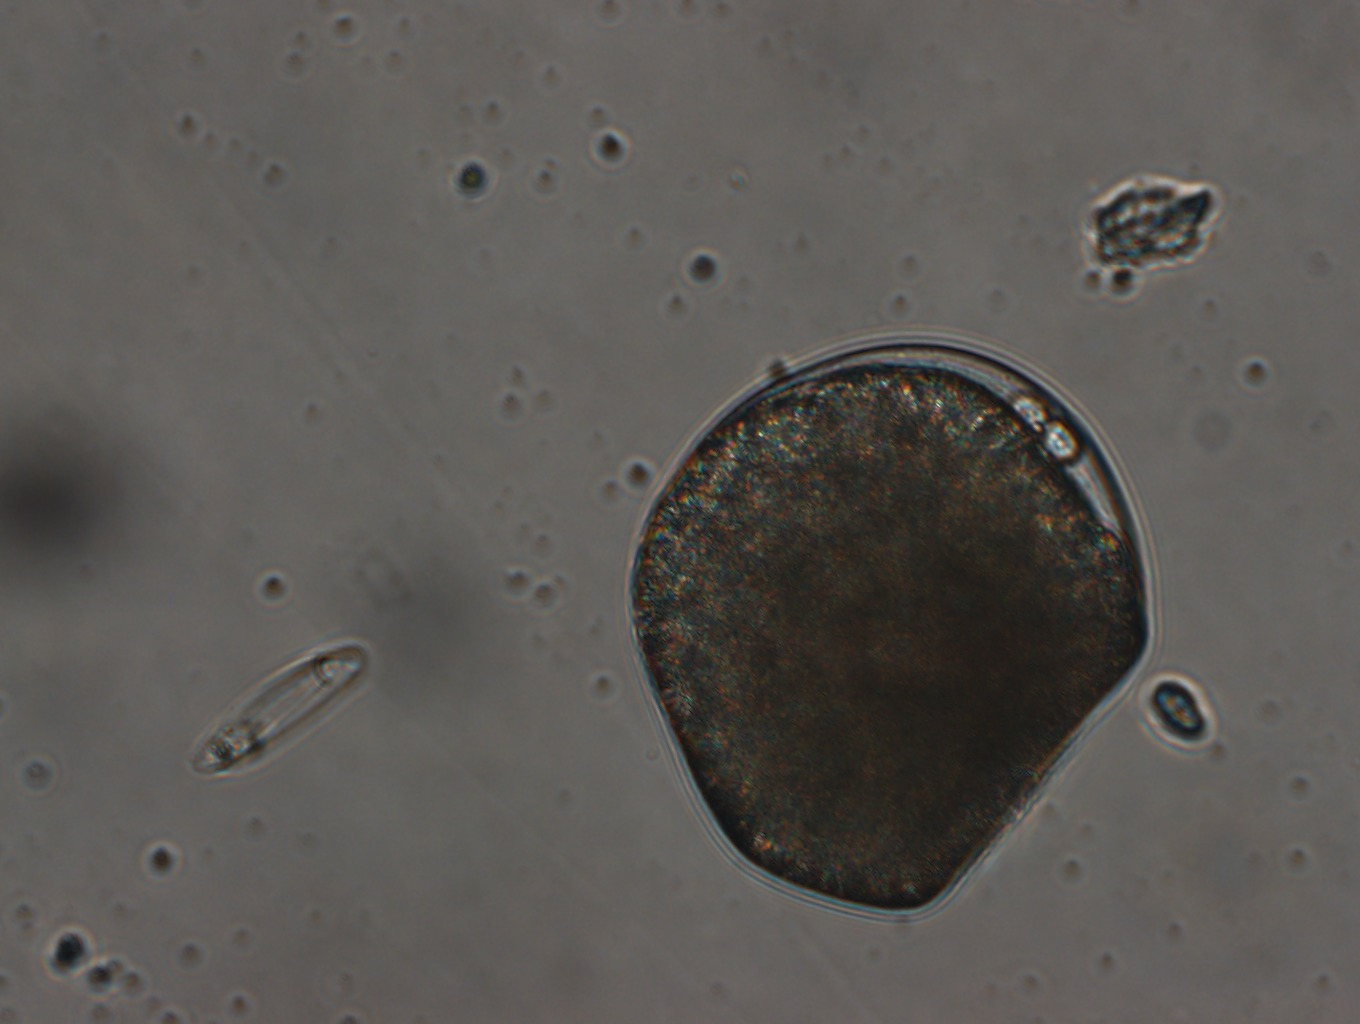coscinodiscus: (622, 333, 1153, 916)
